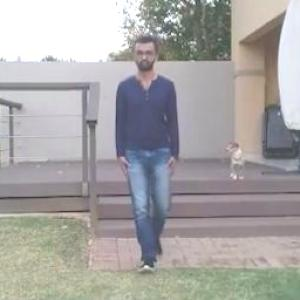follow: (114, 29, 184, 292)
